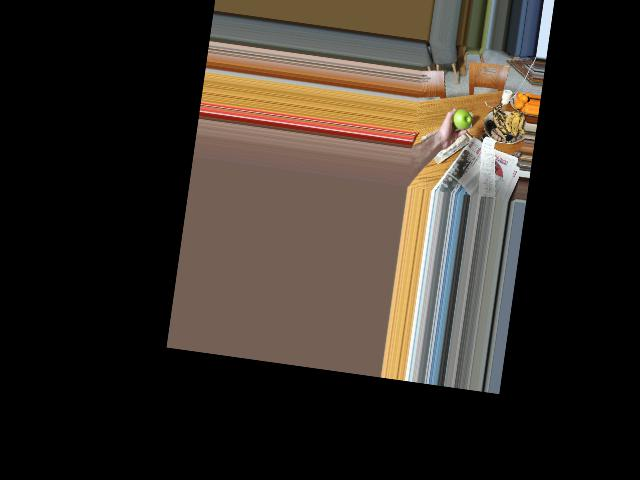apple: (449, 106, 474, 133)
